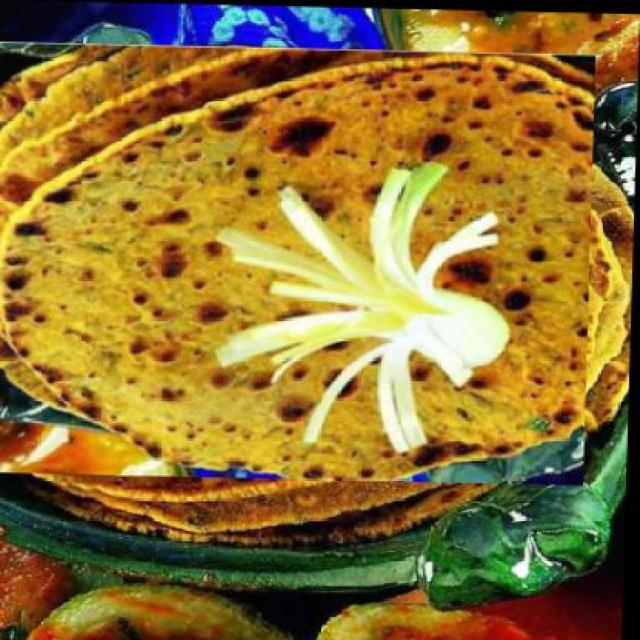chapati: (0, 42, 597, 484)
